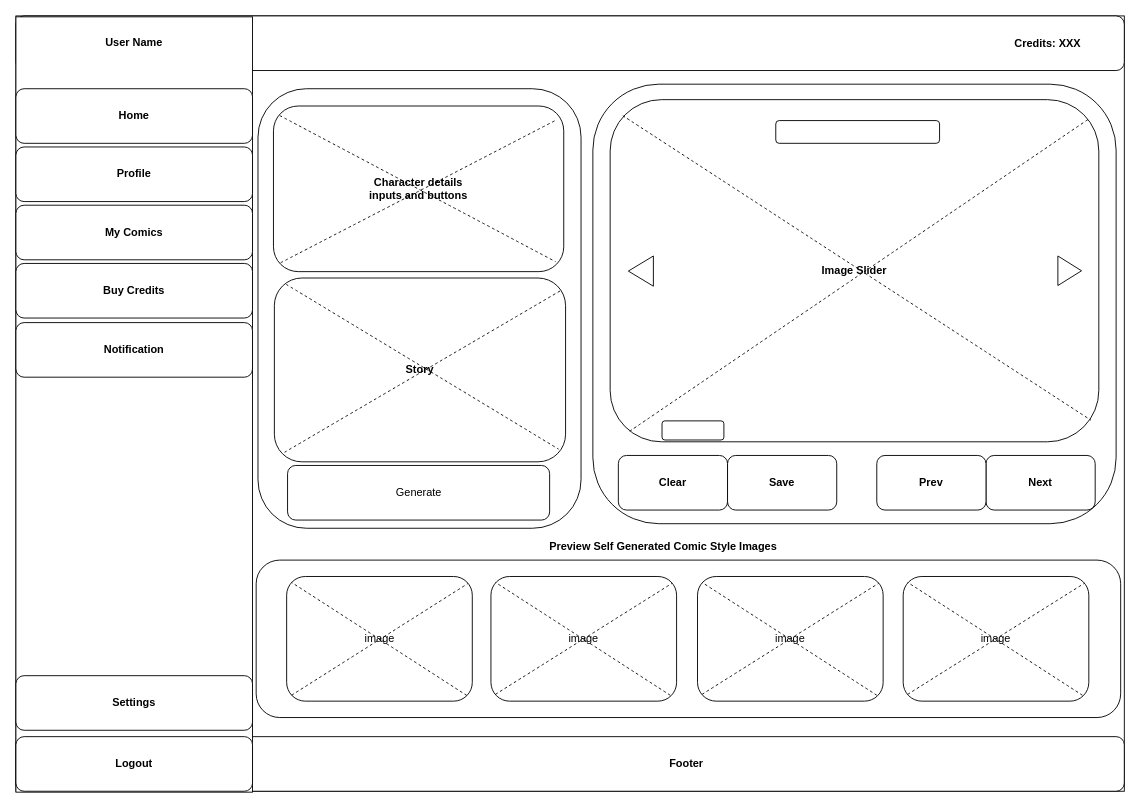
Image size: 1140x808. Some labels were removed from this diagram. Here are the shapes that lost their labels. From the top down, the centre of each, then its label:
At (x=857, y=131): "o o o o o".
At (x=692, y=430): "Auto".
